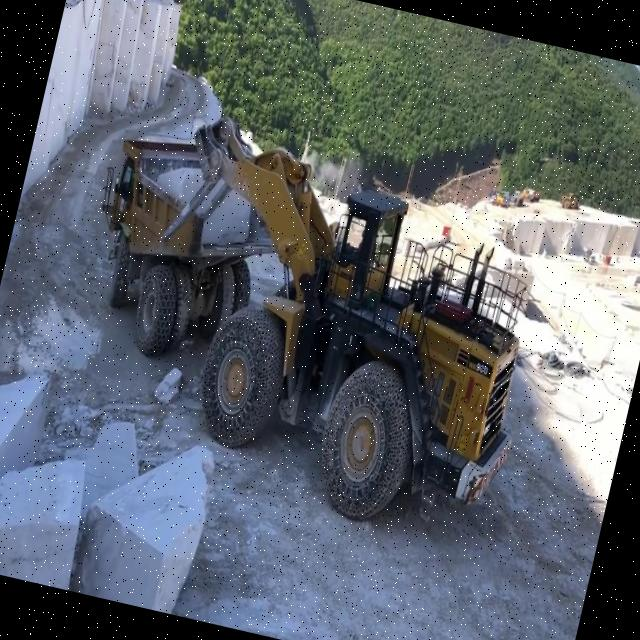Dump Truck: (67, 110, 299, 378)
Loader: (114, 104, 572, 558)
